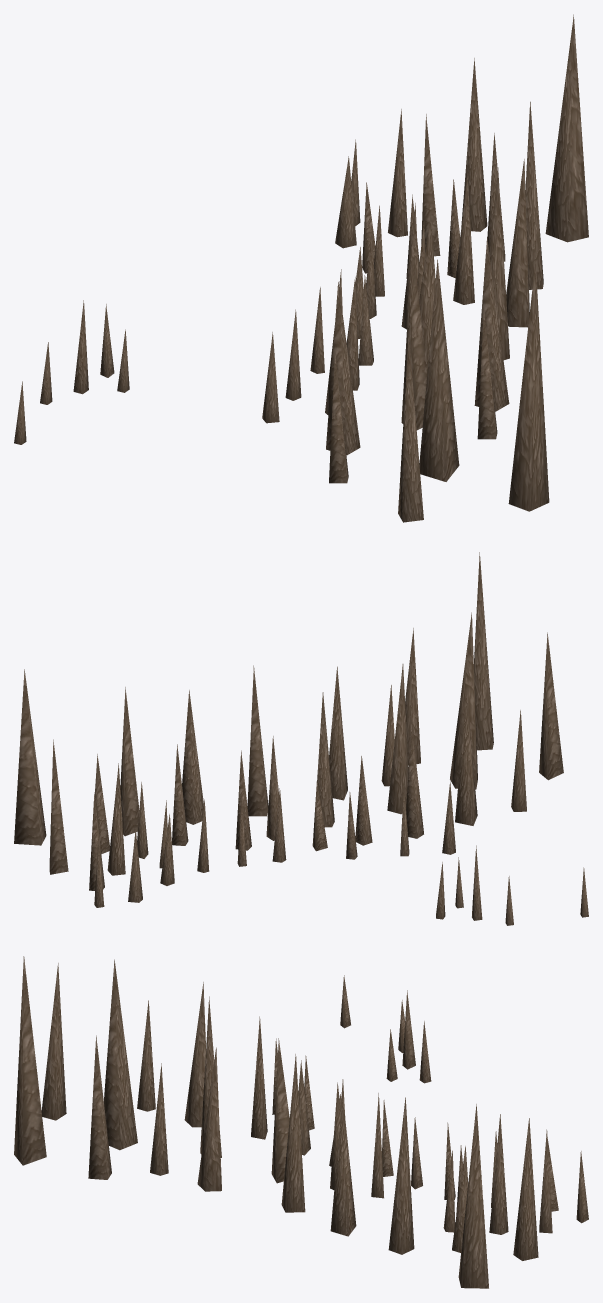
Rendered from area_05_8.fbx.
3 renders of one model, top to bottom at view 1: azimuth 30°, elevation 25°; view 2: azimuth 150°, elevation 25°; view 3: azimuth 270°, elevation 25°, orthographic. The views are drawn at different scales.
Visible parts, largest first — view 1: area_05_8; view 2: area_05_8; view 3: area_05_8.
Boxes of the visible parts, x1,y1,x2,y2 form: area_05_8: [14, 14, 588, 522]; area_05_8: [14, 552, 588, 925]; area_05_8: [14, 956, 588, 1288].
Size of the model in its own units: 49.21 by 17.92 by 45.31.
